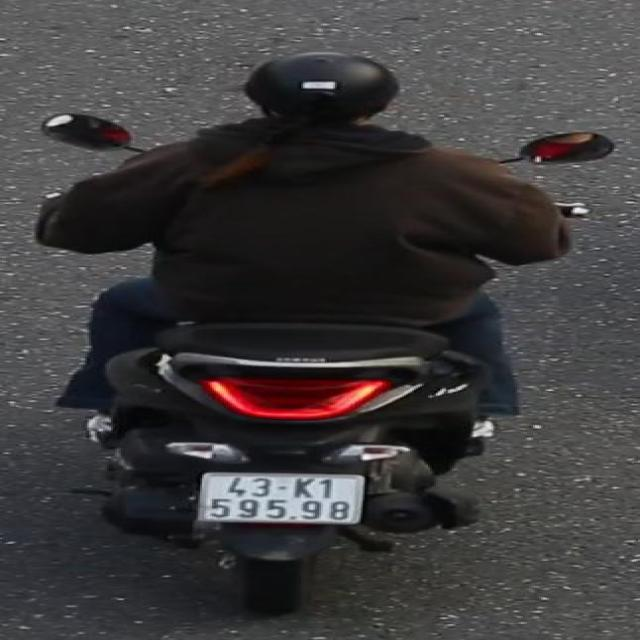LP: (193, 468, 372, 530)
helmet: (241, 46, 409, 132)
